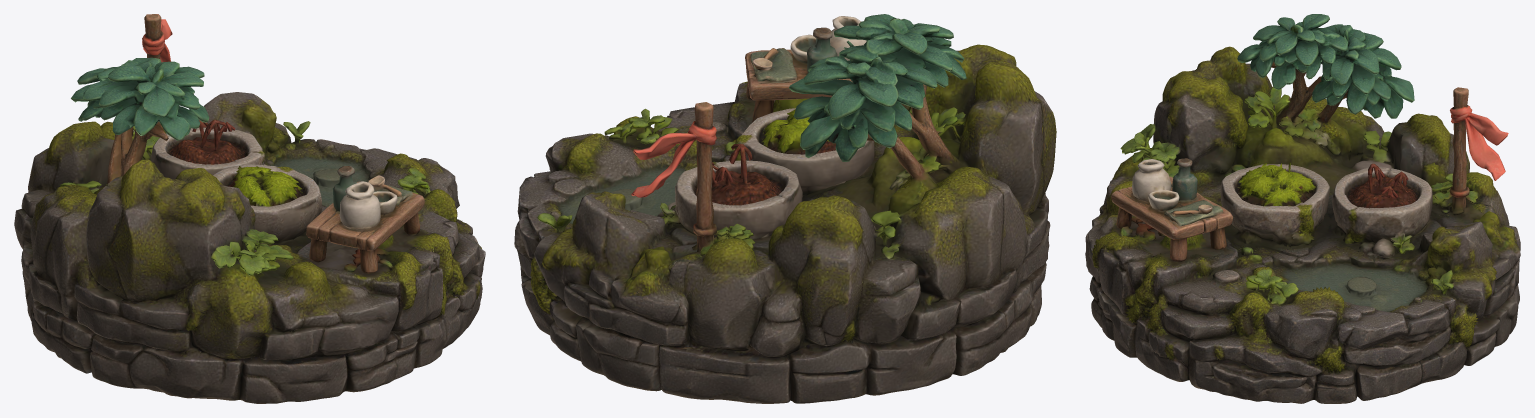
Rendered from event-dispute.glb.
The picture shows the model from 3 angles, left to right: view 1: azimuth 30°, elevation 25°; view 2: azimuth 150°, elevation 25°; view 3: azimuth 270°, elevation 25°; orthographic projection. The views are drawn at different scales.
Parts seen in each view (by area): view 1: tripo_node_0da9186f-2e49-4da9-b2ad-b153a6741303; view 2: tripo_node_0da9186f-2e49-4da9-b2ad-b153a6741303; view 3: tripo_node_0da9186f-2e49-4da9-b2ad-b153a6741303.
Part boxes in pixels (x1,y1,x2,y2): tripo_node_0da9186f-2e49-4da9-b2ad-b153a6741303: (14, 14, 485, 403); tripo_node_0da9186f-2e49-4da9-b2ad-b153a6741303: (514, 14, 1056, 403); tripo_node_0da9186f-2e49-4da9-b2ad-b153a6741303: (1085, 14, 1520, 403).
Bounding box in the file's own units: 0.9803 × 0.6135 × 0.9791.
Materials: 1 (1 with a texture image).
